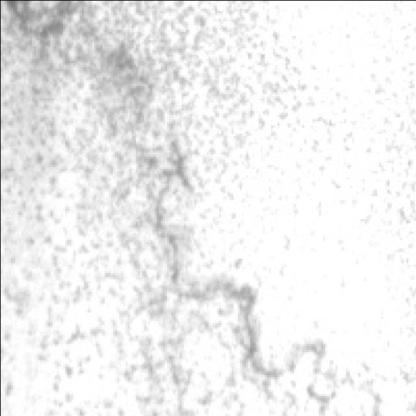pitted_surface: (4, 2, 304, 239), (44, 220, 370, 416)
